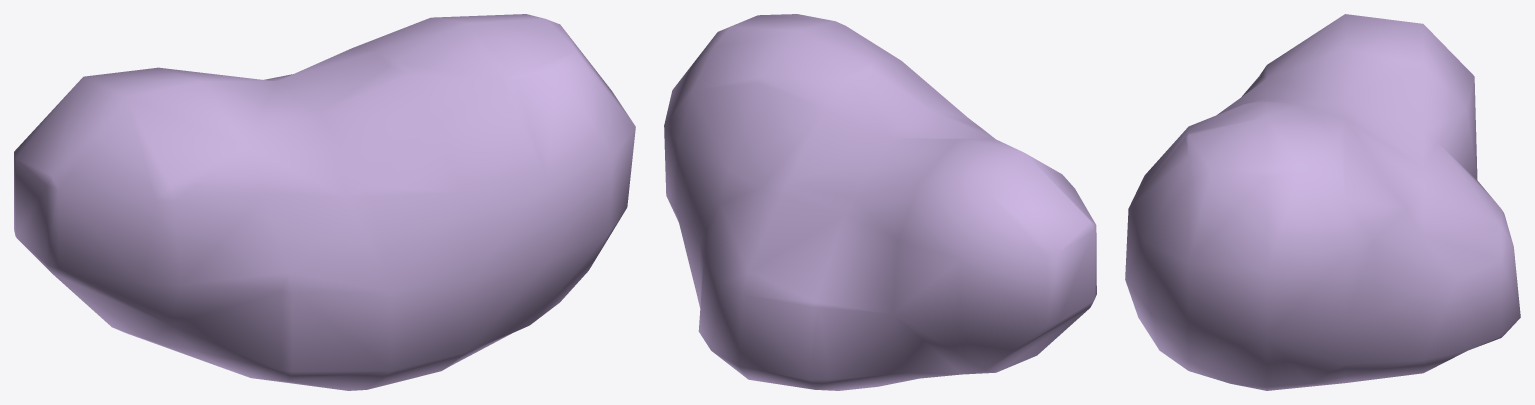
File: spore_puff_C.glb
The picture shows the model from 3 angles, left to right: view 1: azimuth 30°, elevation 25°; view 2: azimuth 150°, elevation 25°; view 3: azimuth 270°, elevation 25°; orthographic projection. The views are drawn at different scales.
Parts seen in each view (by area): view 1: spore_puff_C; view 2: spore_puff_C; view 3: spore_puff_C.
Boxes of the visible parts, box(x1,y1,x2,y2) form: spore_puff_C: box(14, 14, 635, 390); spore_puff_C: box(664, 14, 1096, 390); spore_puff_C: box(1125, 14, 1520, 390).
Bounding box in the file's own units: 1.81 × 1.04 × 1.32.
